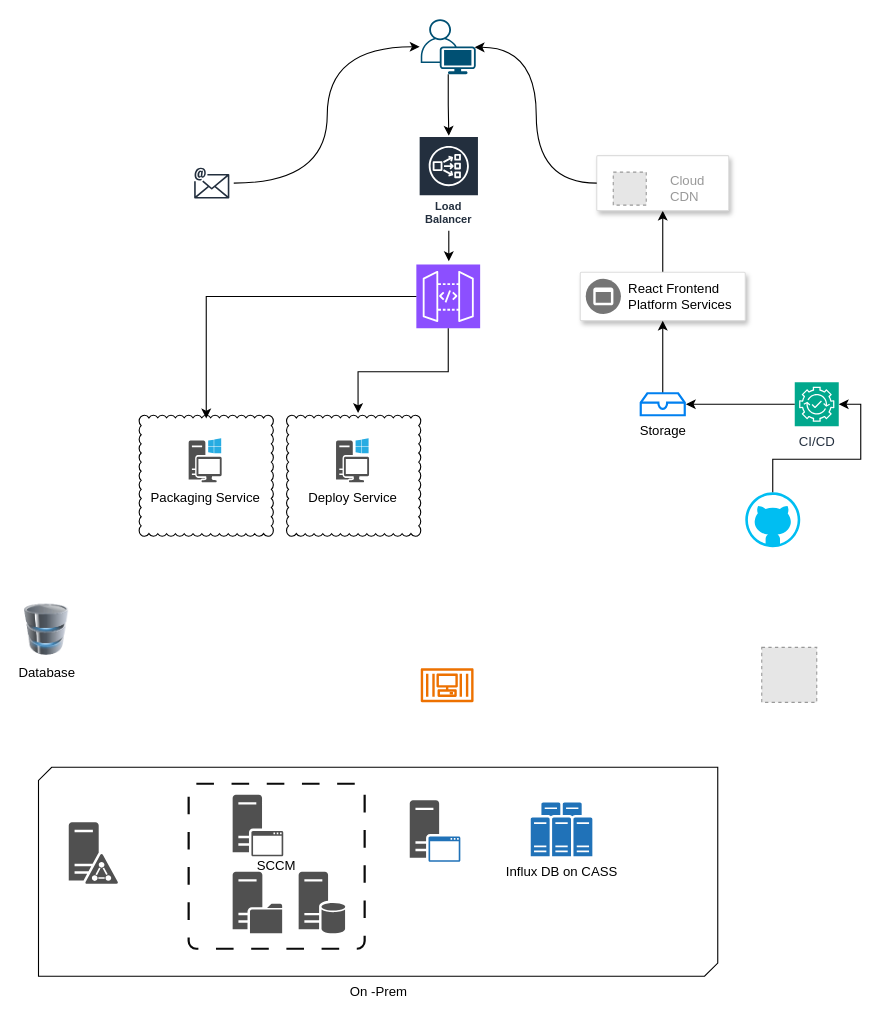
The diagram is 889 pixels wide and 1018 high, and some of its shapes have lost their labels. Grey dashed boxes stand in for pictures. Here are the shapes that lost their labels. From the top down, the centre of each, then its label:
the point at 211,182: Email
the point at 447,295: API Gateway
the point at 434,830: SNOW
the point at 93,852: Active Directory
